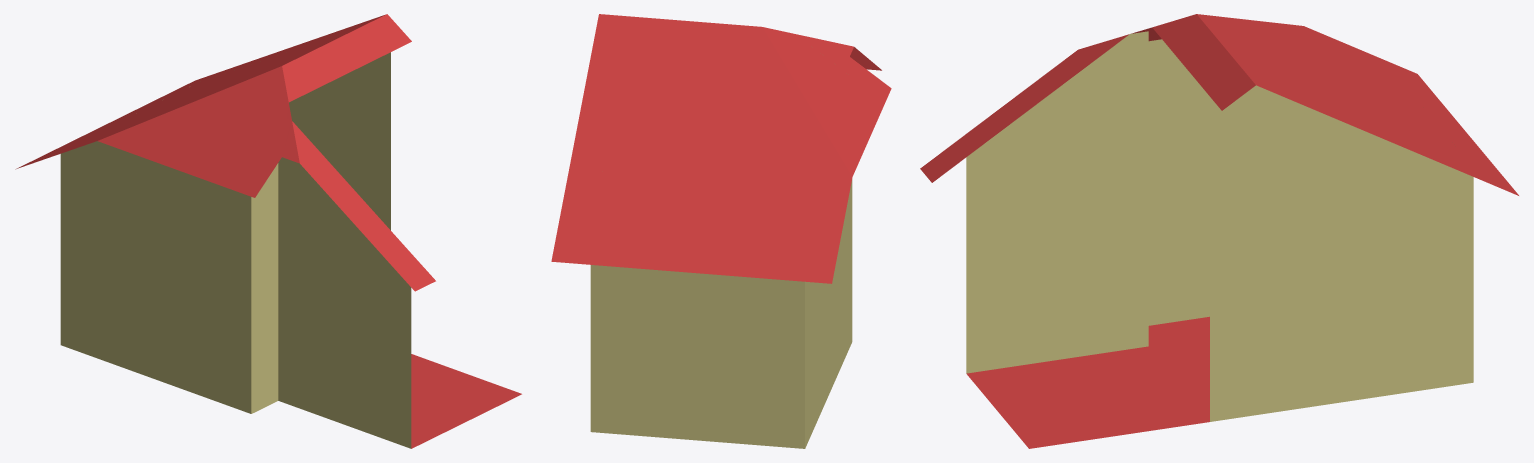
3 renders of one model, left to right at view 1: azimuth 30°, elevation 25°; view 2: azimuth 150°, elevation 25°; view 3: azimuth 270°, elevation 25°, orthographic. The views are drawn at different scales.
Bounding box in the file's own units: 11.74 × 16.58 × 10.55.
